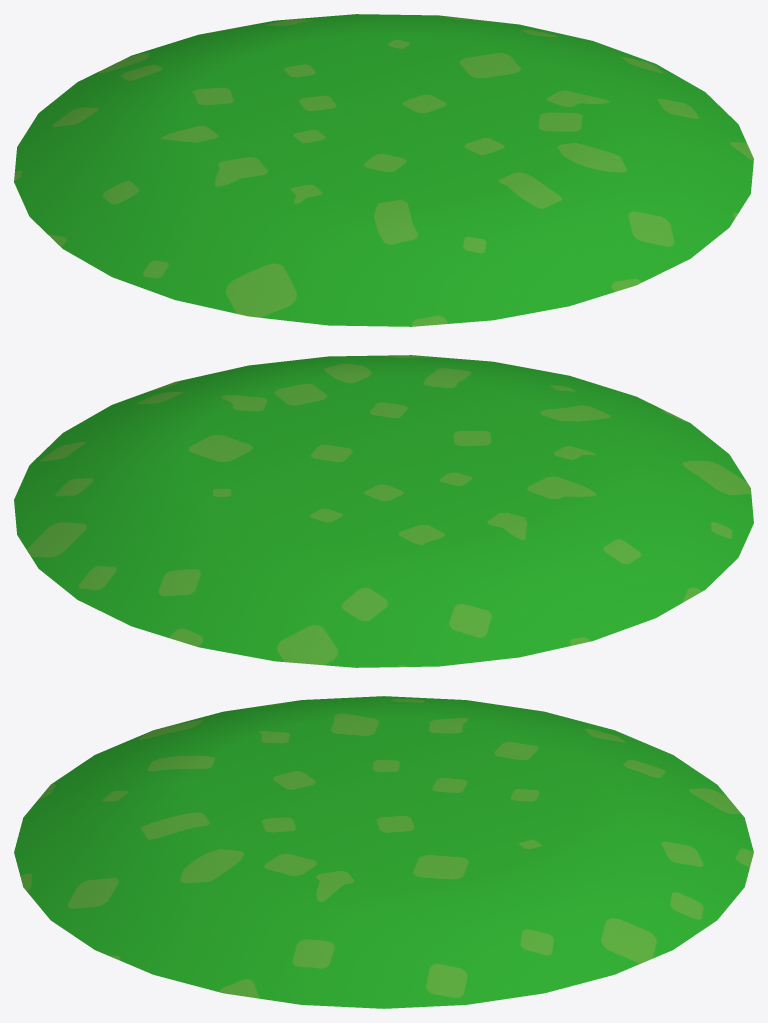
Rendered from GrassHill_1.fbx.
3 views of the same model, one above another, from view 1: azimuth 30°, elevation 25°; view 2: azimuth 150°, elevation 25°; view 3: azimuth 270°, elevation 25° (orthographic).
Visible parts, largest first — view 1: GrassHill_1; view 2: GrassHill_1; view 3: GrassHill_1.
Part boxes in pixels (<box>): GrassHill_1: <box>14,14,753,326</box>; GrassHill_1: <box>14,355,753,667</box>; GrassHill_1: <box>14,696,753,1008</box>.
Bounding box in the file's own units: 6.59 × 0.4989 × 6.59.
